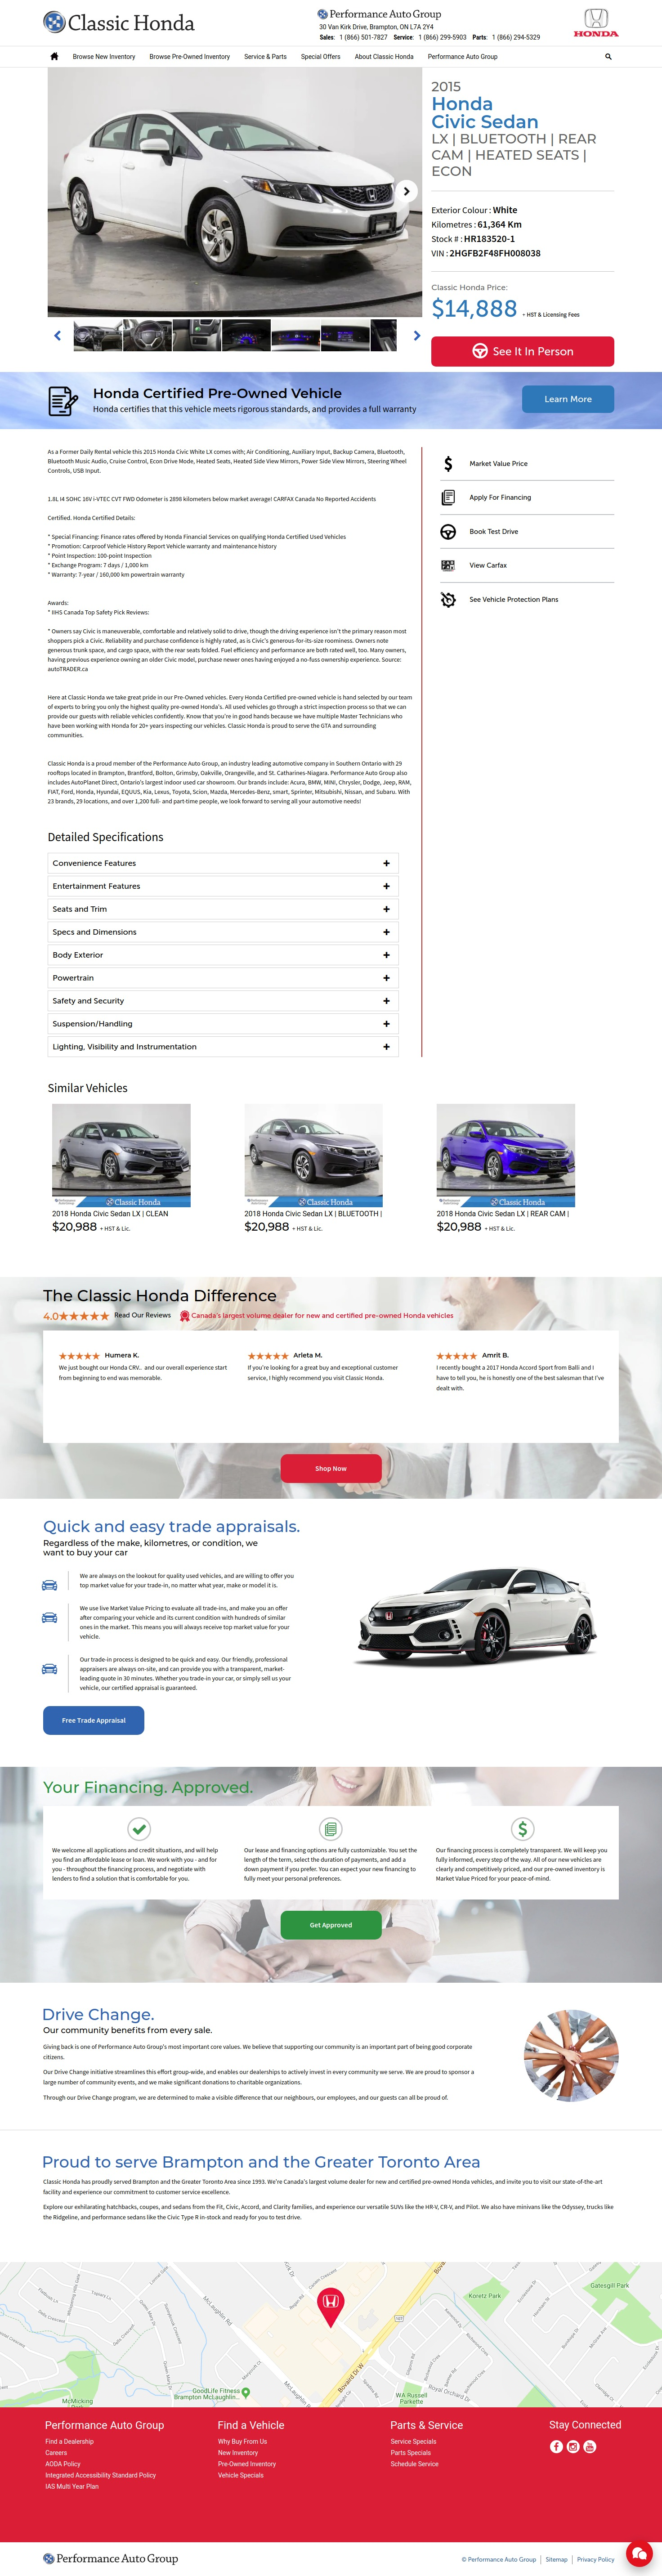car: (414, 330, 421, 342)
